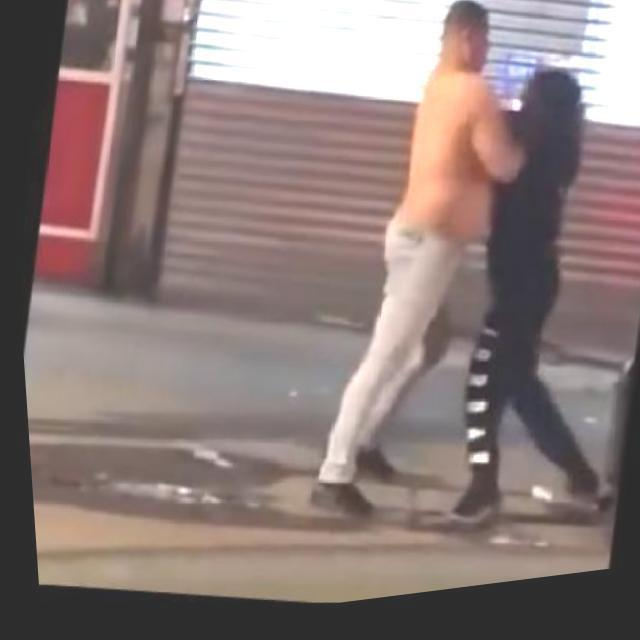fight: (282, 0, 630, 571)
